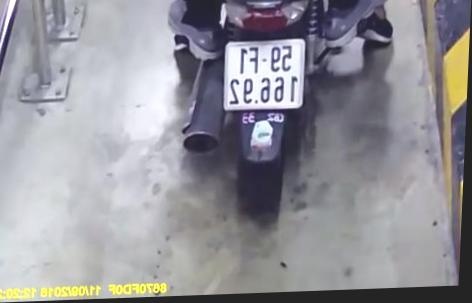License_Plate: (218, 29, 313, 115)
